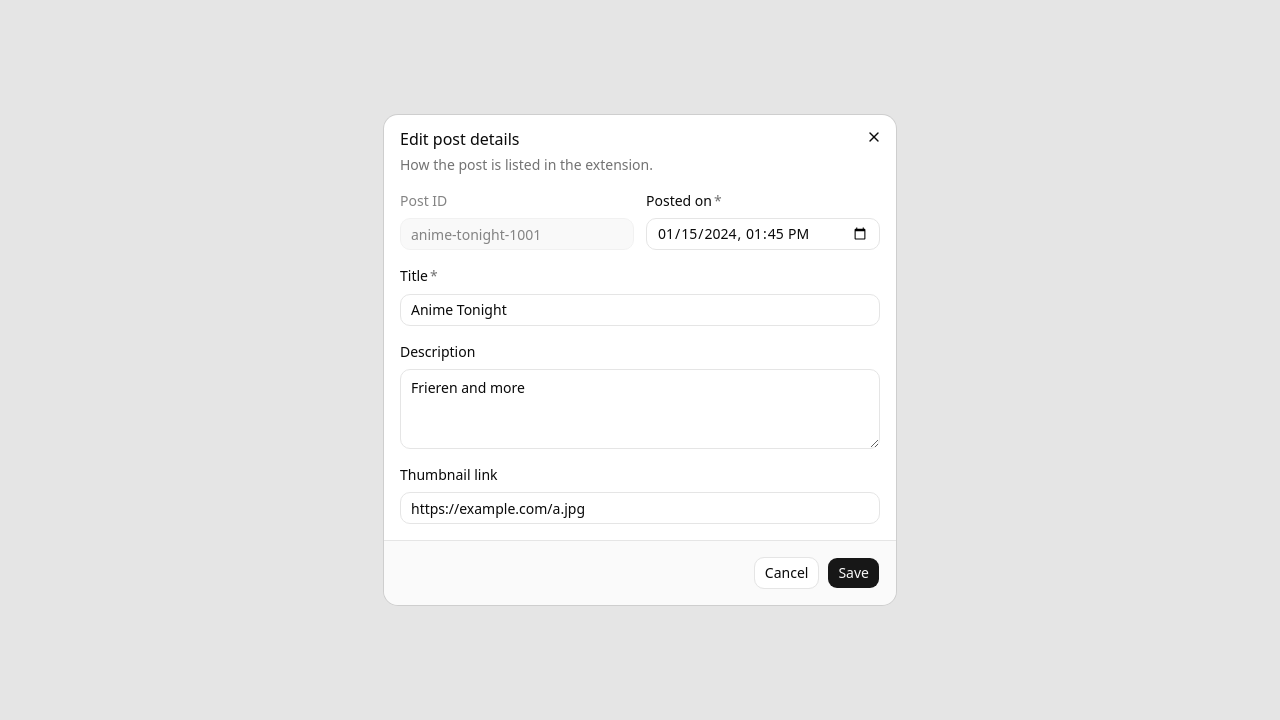
Scenario: postDetailsDialog › asks for an https thumbnail under the field, without saving
This screenshot has width=1280, height=720.
Replace the text in the field labelled "Thumbnail link" with "http://example.com/a.jpg". click: [640, 508]
box: [400,492,880,524]
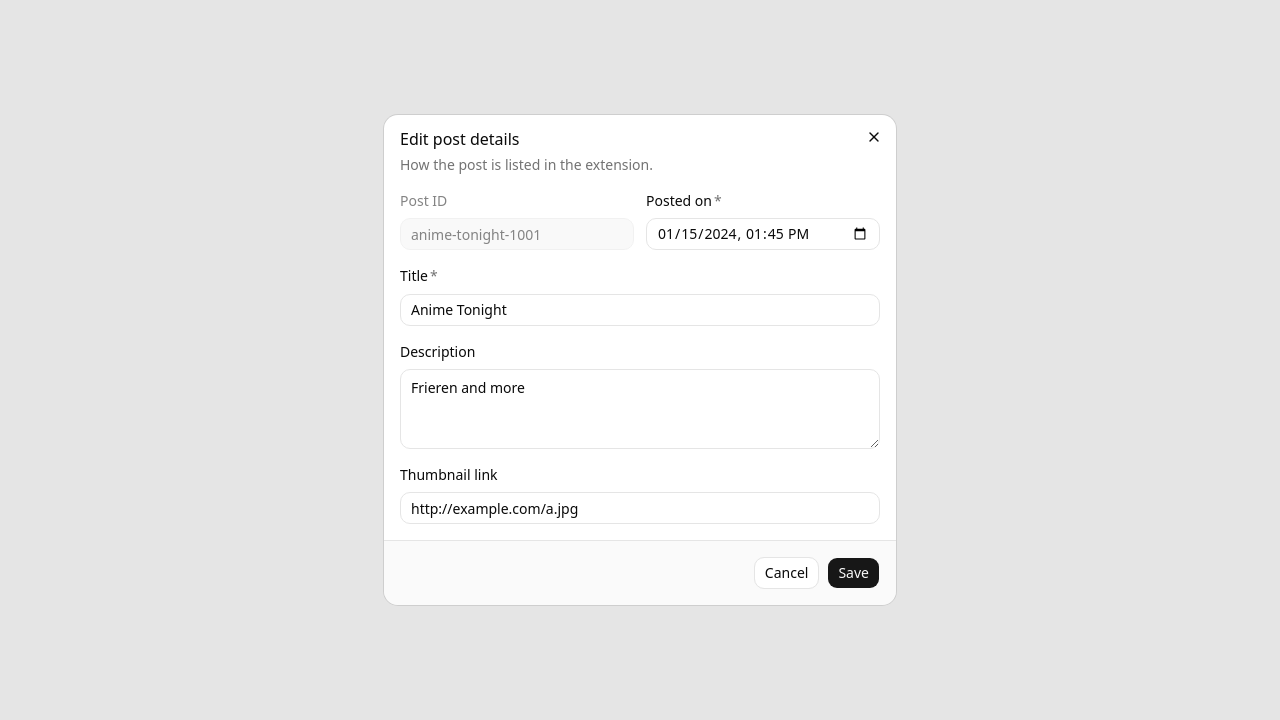
Click the button "Save". click: [854, 573]
box: [827,557,880,589]
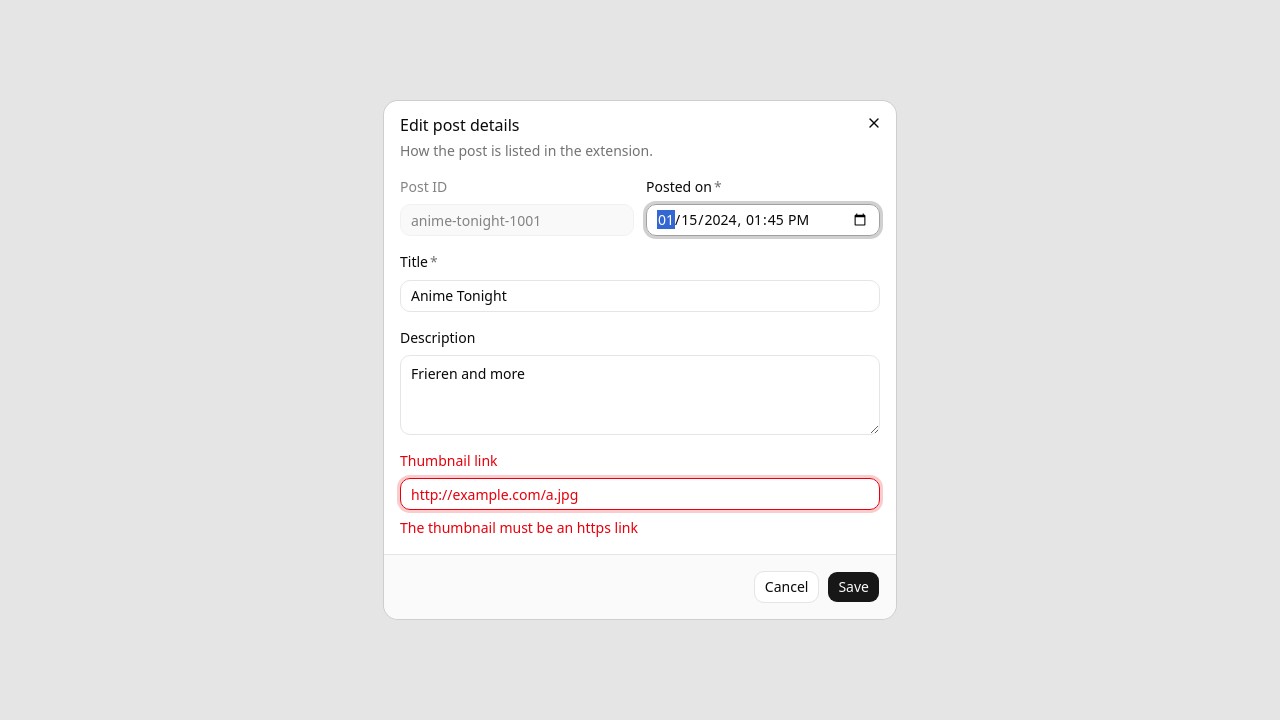
Expected: the element showing "Thumbnail link The thumbnail must be an https link" is shown, [400,451,880,538]
Now the message reads "The thumbnail must be an https link", box [400,518,638,537]
